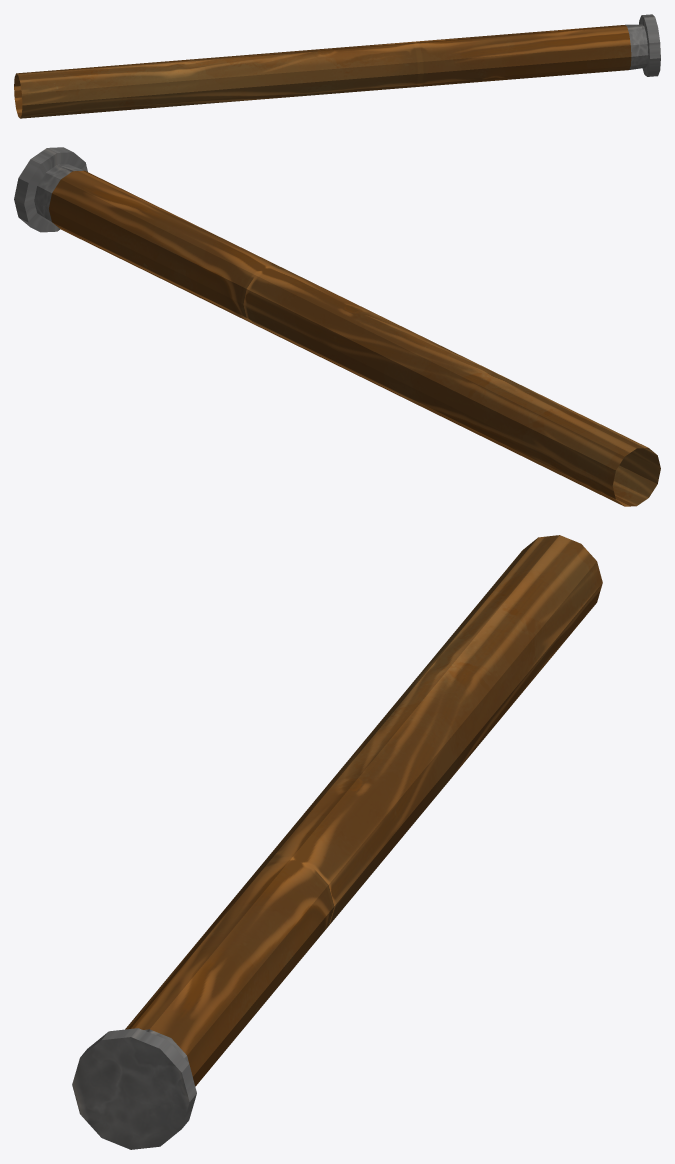
3 renders of one model, top to bottom at view 1: azimuth 30°, elevation 25°; view 2: azimuth 150°, elevation 25°; view 3: azimuth 270°, elevation 25°, orthographic. The views are drawn at different scales.
Parts seen in each view (by area): view 1: Cylinder.096; view 2: Cylinder.096; view 3: Cylinder.096.
Part boxes in pixels (box(x1,y1,x2,y2)): Cylinder.096: box(14, 14, 660, 118); Cylinder.096: box(14, 147, 660, 506); Cylinder.096: box(72, 535, 602, 1149).
Size of the model in its own units: 188 by 18.63 by 79.36.
1 material, 1 textured.
